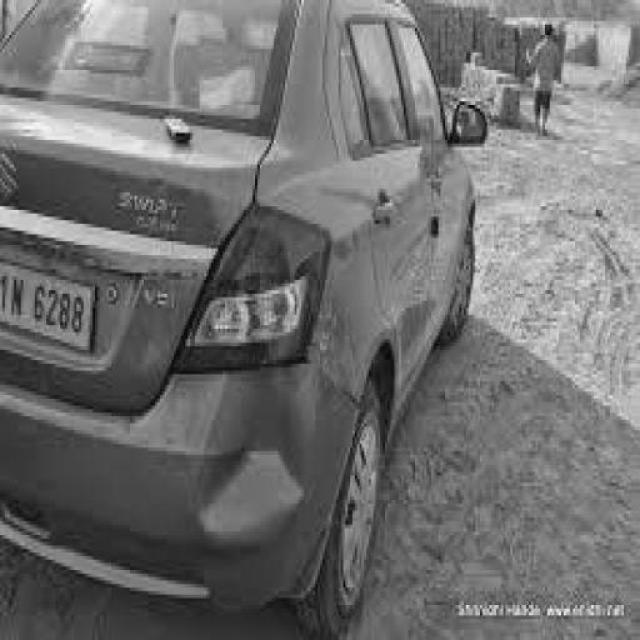dent: (196, 370, 317, 543)
